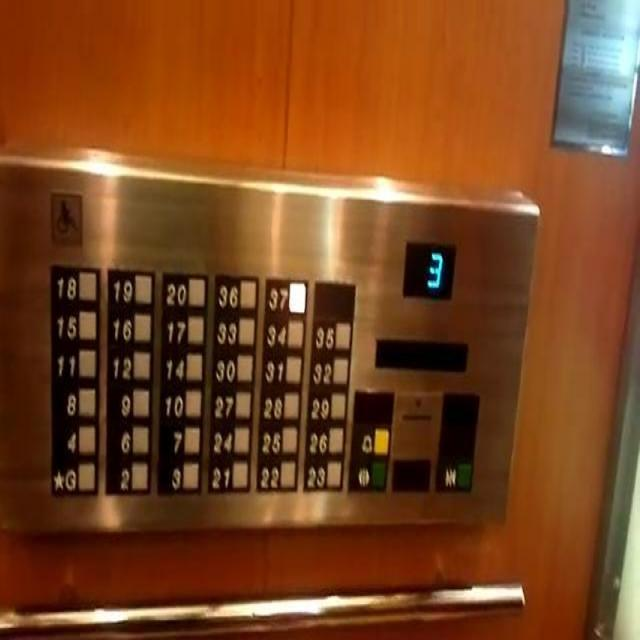10: (157, 386, 204, 422)
11: (48, 343, 98, 384)
12: (103, 346, 154, 382)
14: (158, 347, 206, 385)
15: (47, 303, 99, 347)
16: (103, 308, 154, 344)
17: (158, 309, 206, 347)
18: (46, 262, 100, 306)
19: (104, 265, 156, 311)
2: (102, 459, 152, 496)
20: (158, 271, 209, 308)
21: (206, 457, 250, 496)
22: (253, 457, 298, 495)
23: (301, 456, 344, 492)
24: (207, 421, 252, 460)
25: (255, 420, 300, 459)
26: (302, 419, 347, 457)
27: (210, 385, 254, 423)
28: (258, 385, 302, 423)
29: (305, 386, 349, 422)
3: (156, 457, 203, 495)
30: (210, 350, 256, 386)
31: (259, 348, 305, 387)
32: (308, 354, 352, 386)
33: (212, 312, 258, 351)
34: (260, 314, 306, 349)
35: (311, 317, 354, 353)
36: (210, 272, 260, 312)
37: (261, 275, 308, 313)
4: (48, 422, 98, 458)
6: (103, 418, 152, 458)
7: (156, 420, 203, 459)
8: (48, 384, 98, 423)
9: (102, 382, 152, 418)
CH: (47, 187, 84, 248)
alarm: (349, 423, 392, 457)
close: (433, 457, 474, 495)
led: (400, 239, 456, 297)
open: (345, 455, 390, 493)
sG: (47, 455, 98, 497)
